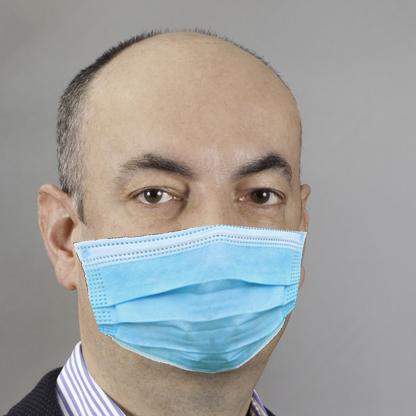mask: (67, 220, 308, 374)
